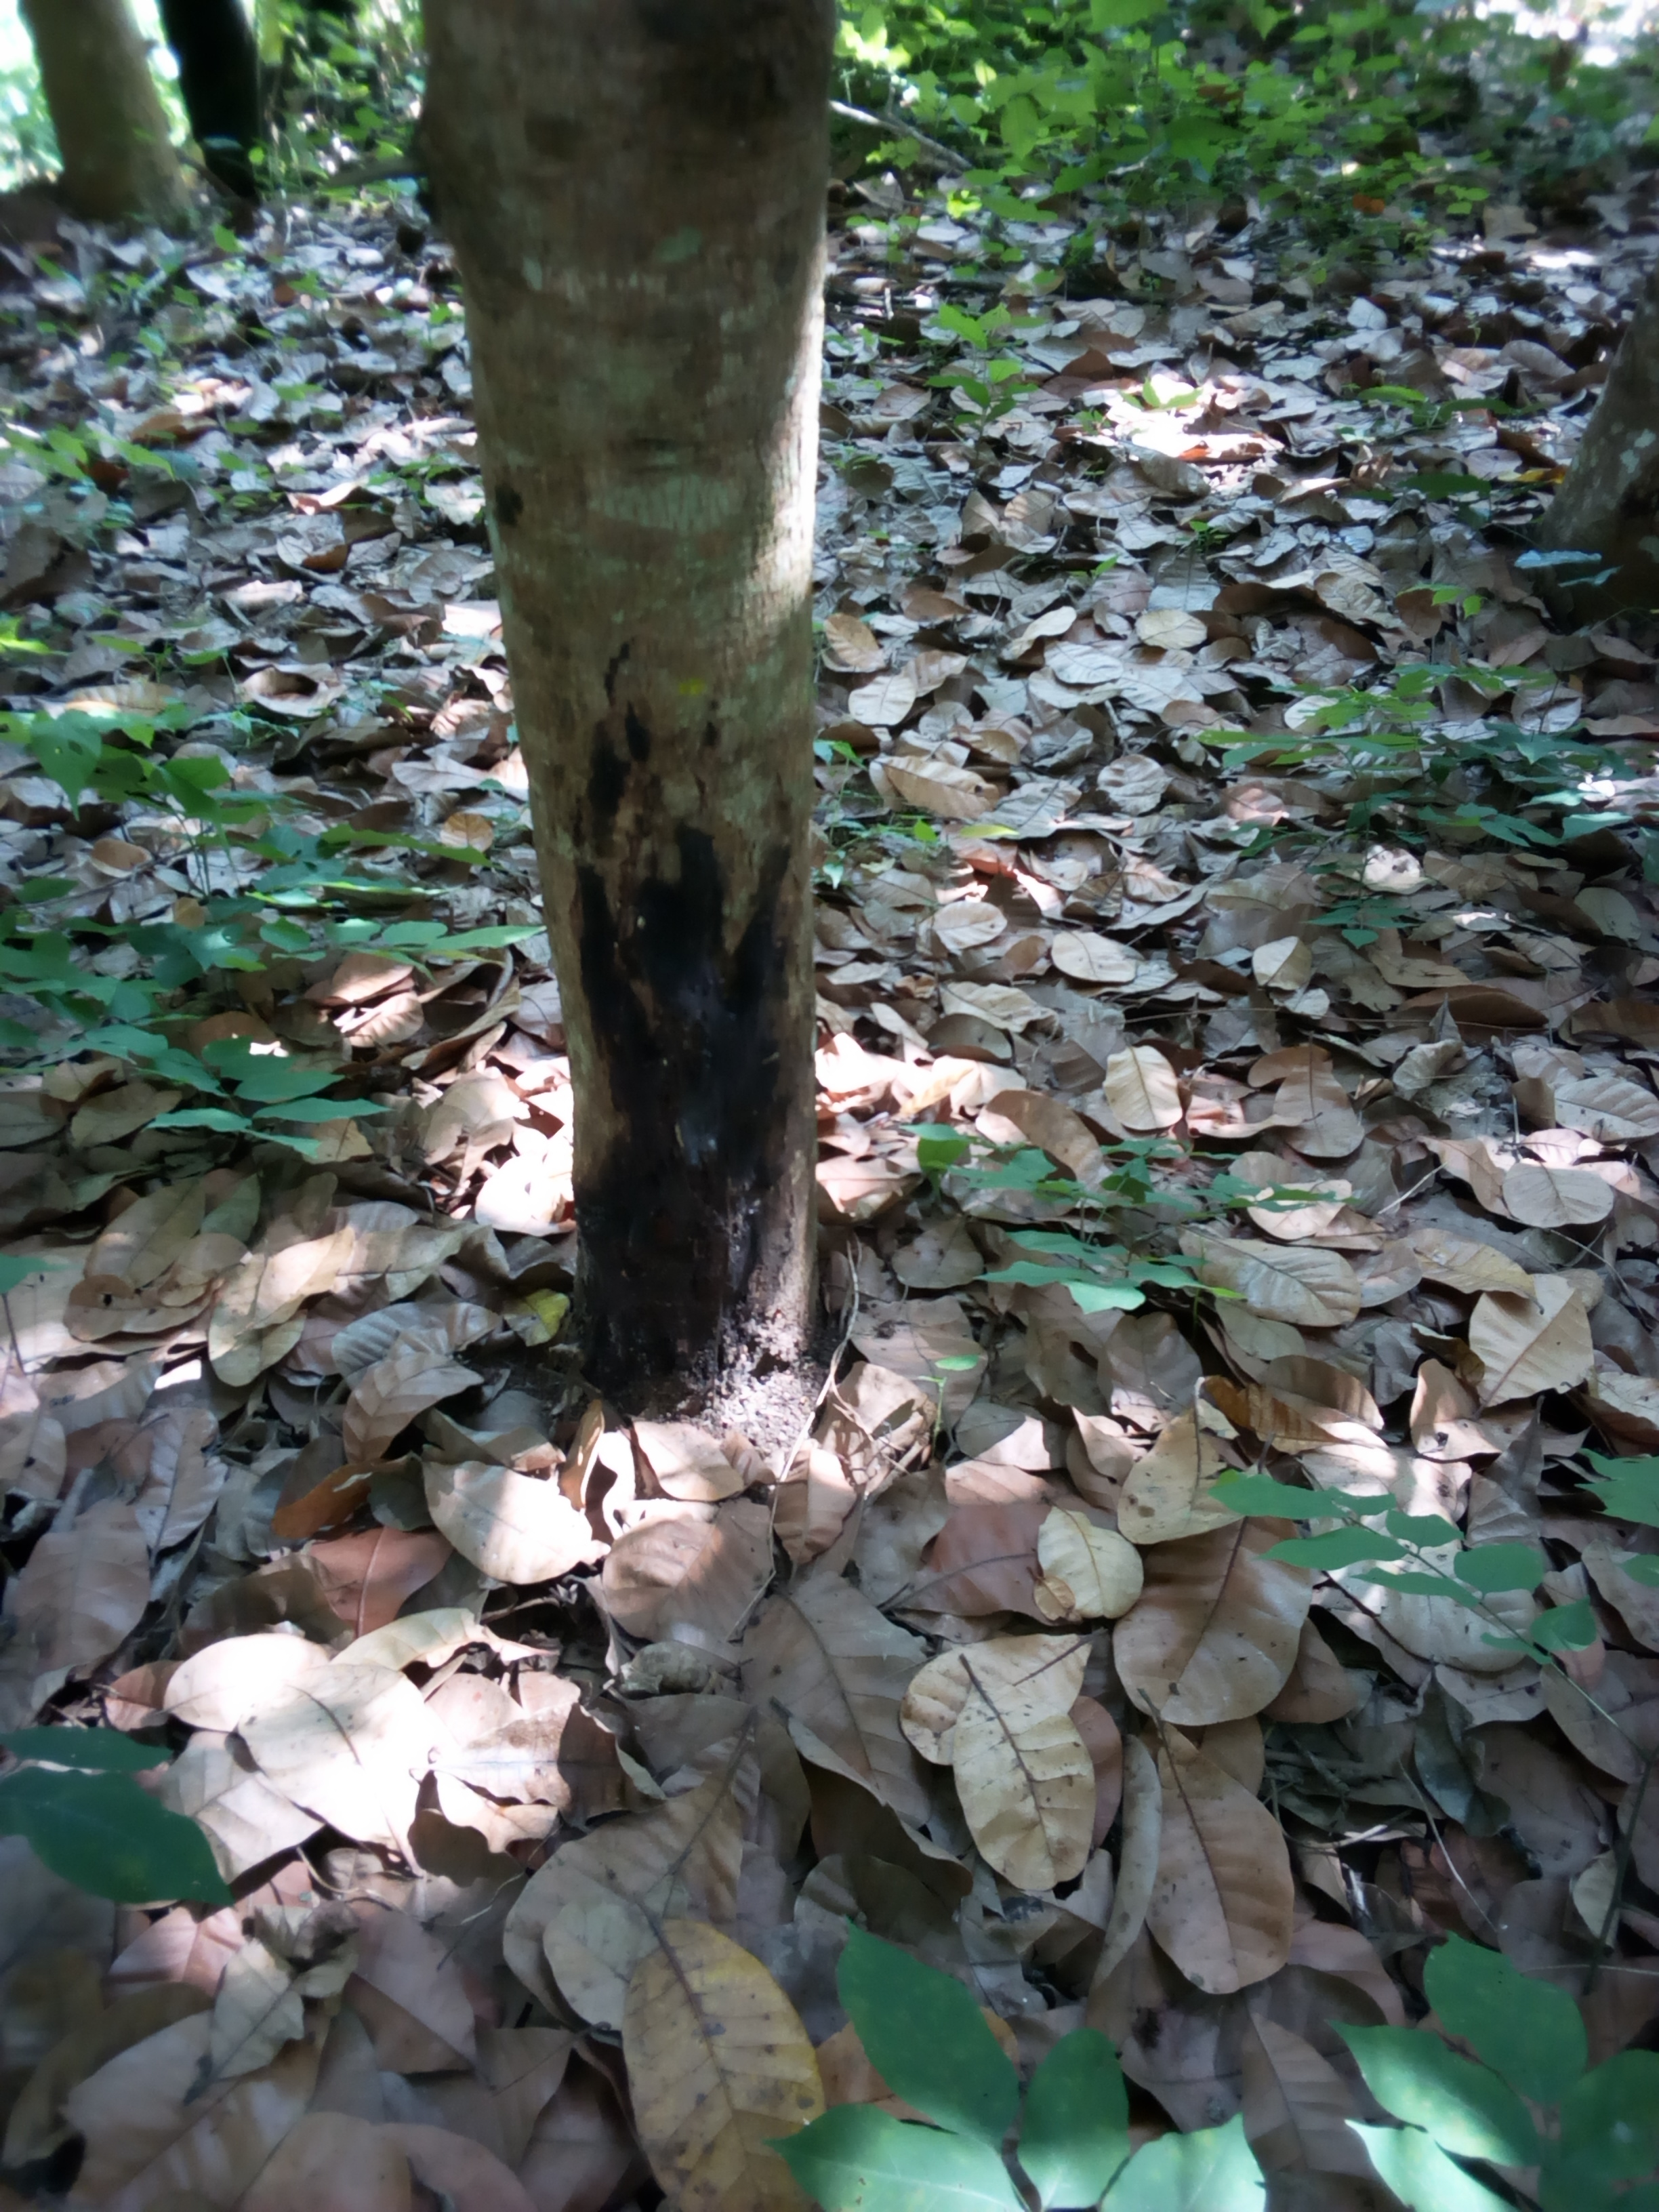Mecocorynus longiceps: (565, 834, 829, 1357)
